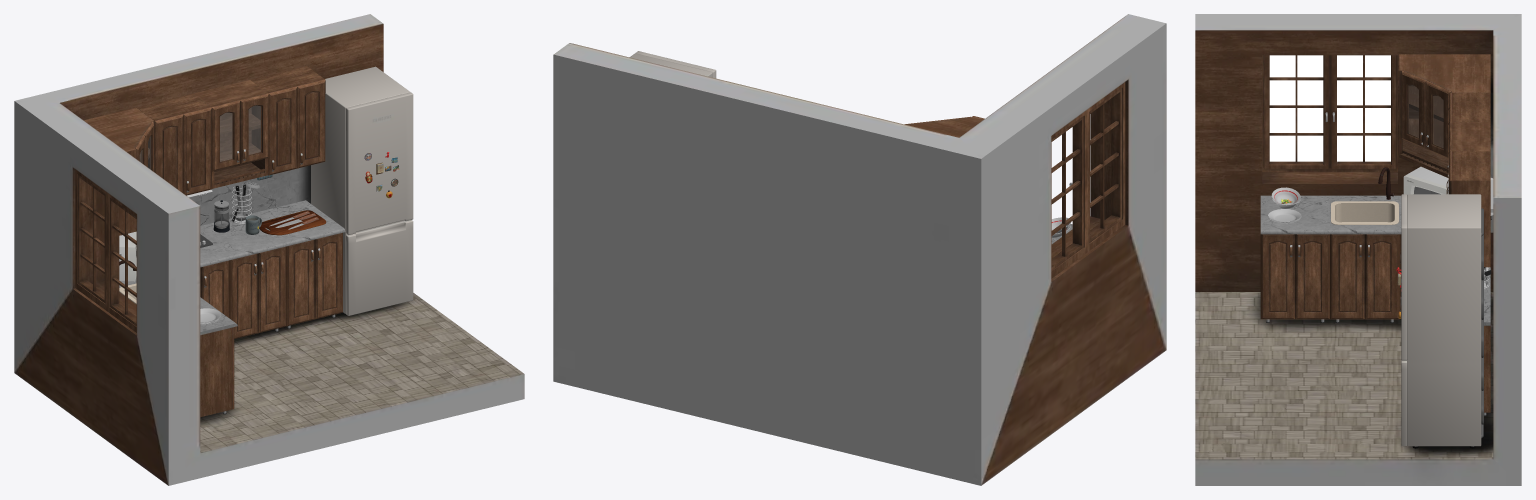
File: Kitchen.glb
3 renders of one model, left to right at view 1: azimuth 30°, elevation 25°; view 2: azimuth 150°, elevation 25°; view 3: azimuth 270°, elevation 25°, orthographic. The views are drawn at different scales.
Visible parts, largest first — view 1: Object_4, Object_107, Object_13, Object_63, Object_77, Object_209, Object_92, Object_79, Object_176, Object_159; view 2: Object_4, Object_209, Object_92, Object_107; view 3: Object_4, Object_107, Object_13, Object_215, Object_92, Object_209, Object_63, Object_201, Object_77, Object_94, Object_159, Object_178.
Part boxes in pixels (<box>): Object_4: <box>14,14,524,485</box>; Object_107: <box>311,66,413,315</box>; Object_13: <box>120,200,345,417</box>; Object_63: <box>136,66,325,195</box>; Object_77: <box>193,80,268,188</box>; Object_209: <box>75,169,136,332</box>; Object_92: <box>84,107,154,235</box>; Object_79: <box>220,106,260,161</box>; Object_176: <box>259,210,326,235</box>; Object_159: <box>119,231,136,281</box>; Object_4: <box>553,14,1166,485</box>; Object_209: <box>1051,82,1125,278</box>; Object_92: <box>904,116,984,137</box>; Object_107: <box>630,51,716,78</box>; Object_4: <box>1195,14,1521,485</box>; Object_107: <box>1401,194,1483,448</box>; Object_13: <box>1260,195,1490,416</box>; Object_215: <box>1269,55,1390,161</box>; Object_92: <box>1399,54,1490,177</box>; Object_209: <box>1262,55,1397,172</box>; Object_63: <box>1446,92,1490,267</box>; Object_201: <box>1331,167,1398,224</box>; Object_77: <box>1446,122,1490,193</box>; Object_94: <box>1408,85,1443,147</box>; Object_159: <box>1403,166,1493,215</box>; Object_178: <box>1268,187,1301,223</box>.
Bounding box in the file's own units: 3.98 × 2.91 × 2.98.
28 materials, 26 textured.
